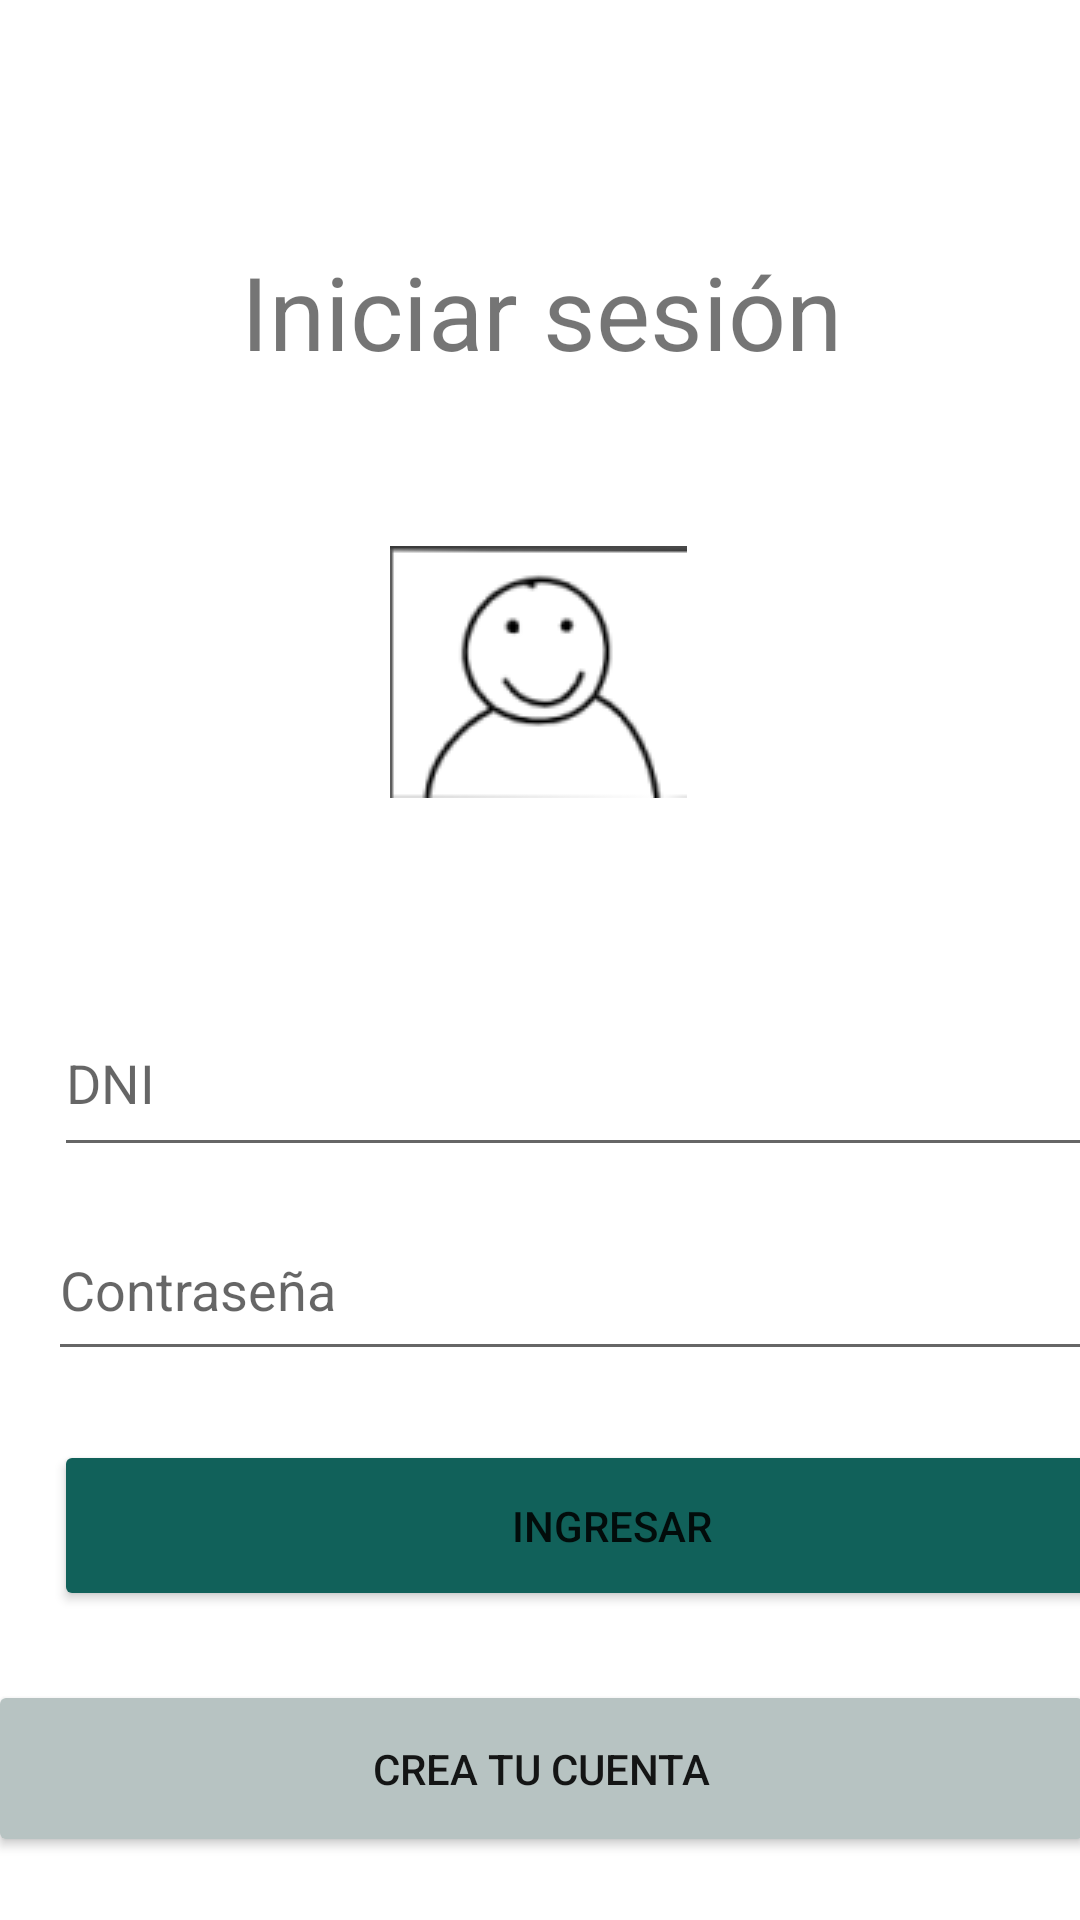

Locate icon controls on the screen. Image size 1080 × 1920, boxes as (x1, y1, x2, y2).
iniciosesion: (390, 546, 687, 798)
